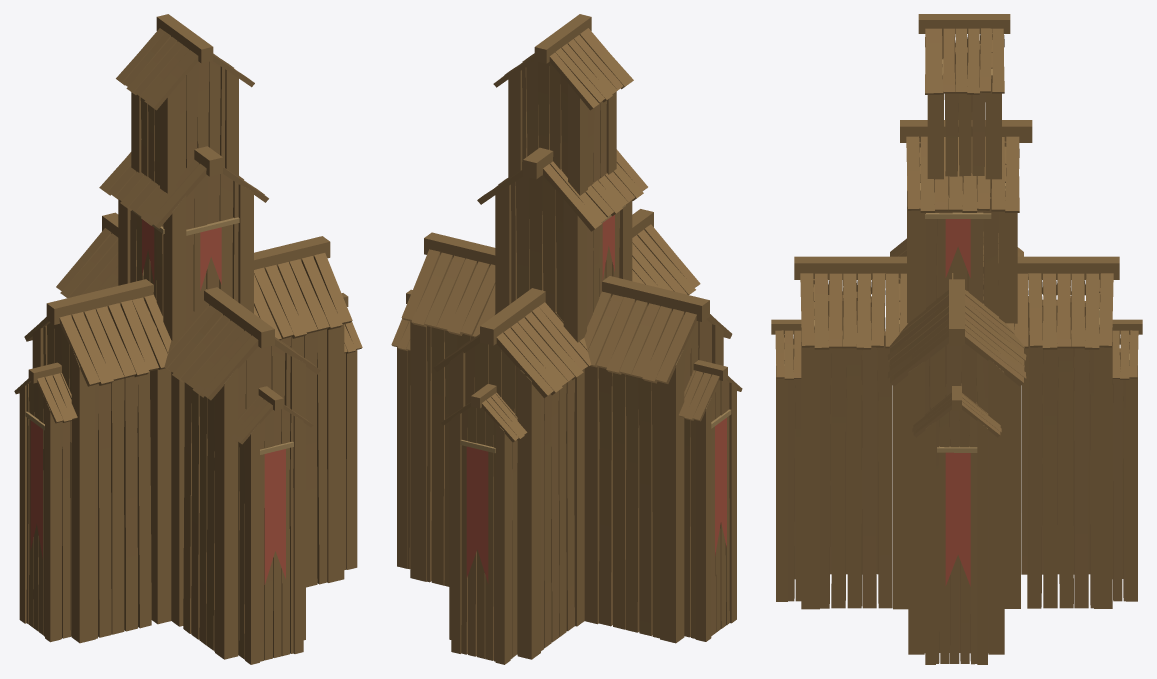
Rendered from Temple_FirstAge_Level2.glb.
3 renders of one model, left to right at view 1: azimuth 30°, elevation 25°; view 2: azimuth 150°, elevation 25°; view 3: azimuth 270°, elevation 25°, orthographic. The views are drawn at different scales.
Parts seen in each view (by area): view 1: Temple_FirstAge_Level2; view 2: Temple_FirstAge_Level2; view 3: Temple_FirstAge_Level2.
Part boxes in pixels (x1,y1,x2,y2): Temple_FirstAge_Level2: (14, 14, 362, 664); Temple_FirstAge_Level2: (391, 14, 742, 664); Temple_FirstAge_Level2: (771, 14, 1142, 664).
Bounding box in the file's own units: 1.81 × 3.08 × 1.81.
